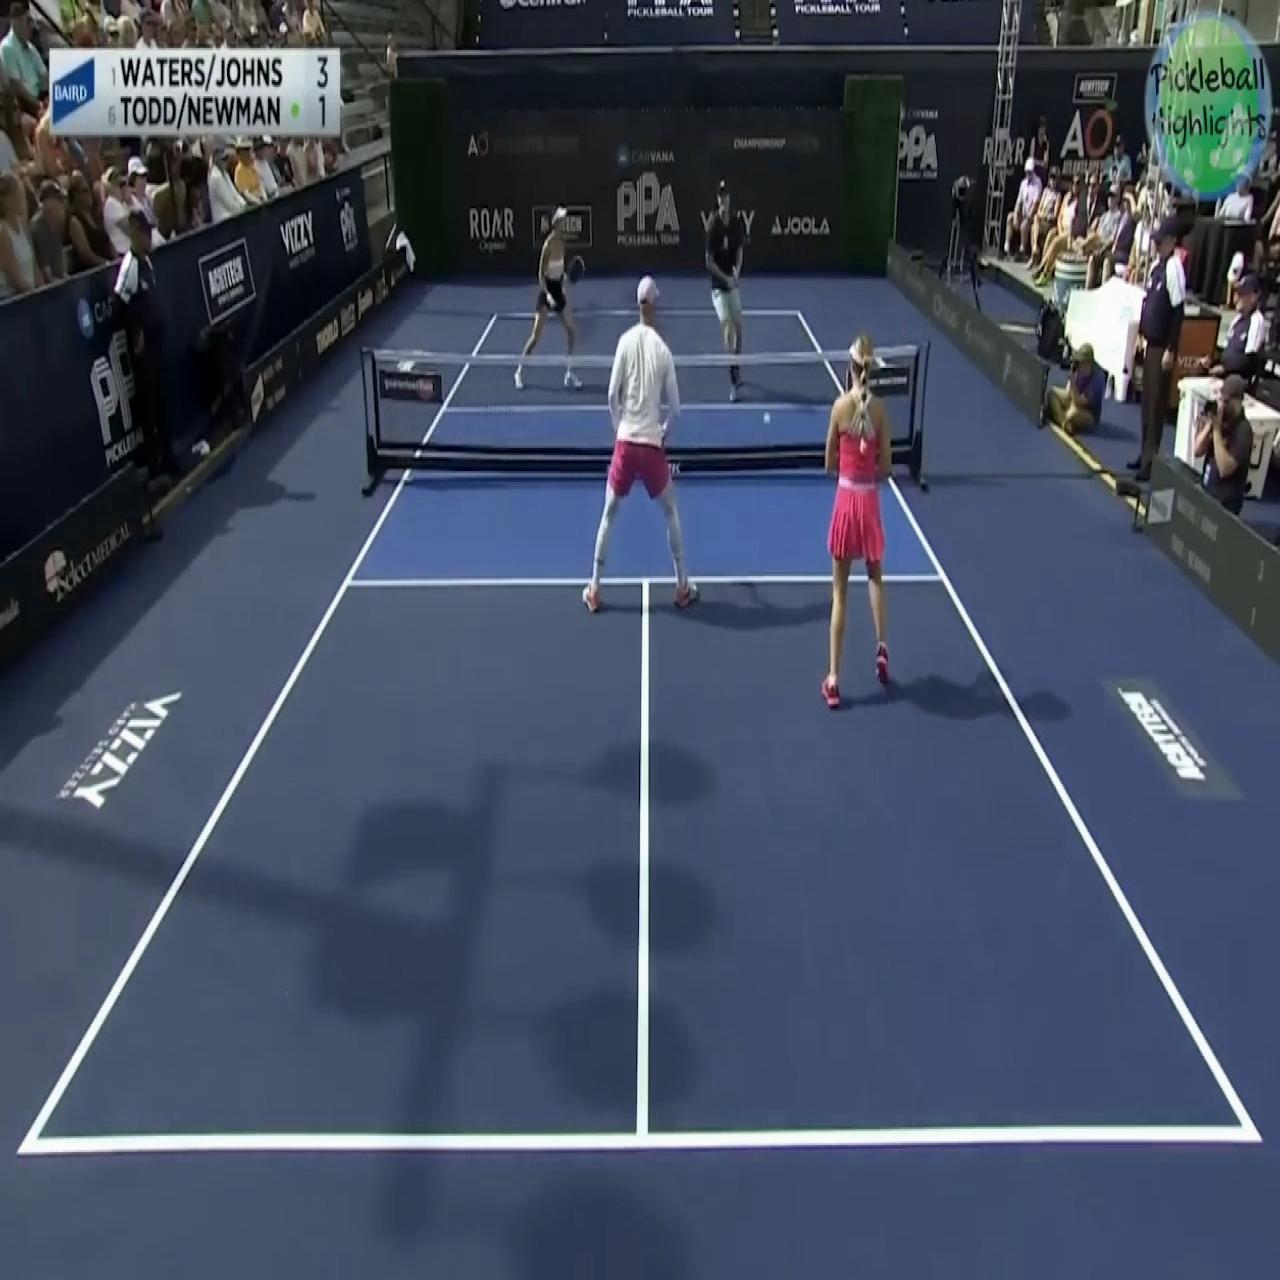Pickleball: (761, 407, 772, 430)
